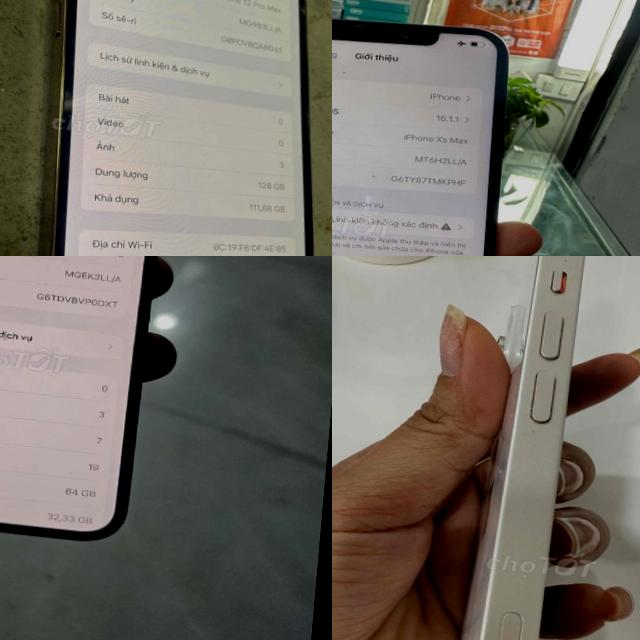gen_12_13: (20, 0, 332, 256), (0, 256, 172, 546)
gen_14: (431, 256, 601, 640)
gen_x_xs: (332, 5, 518, 256)
